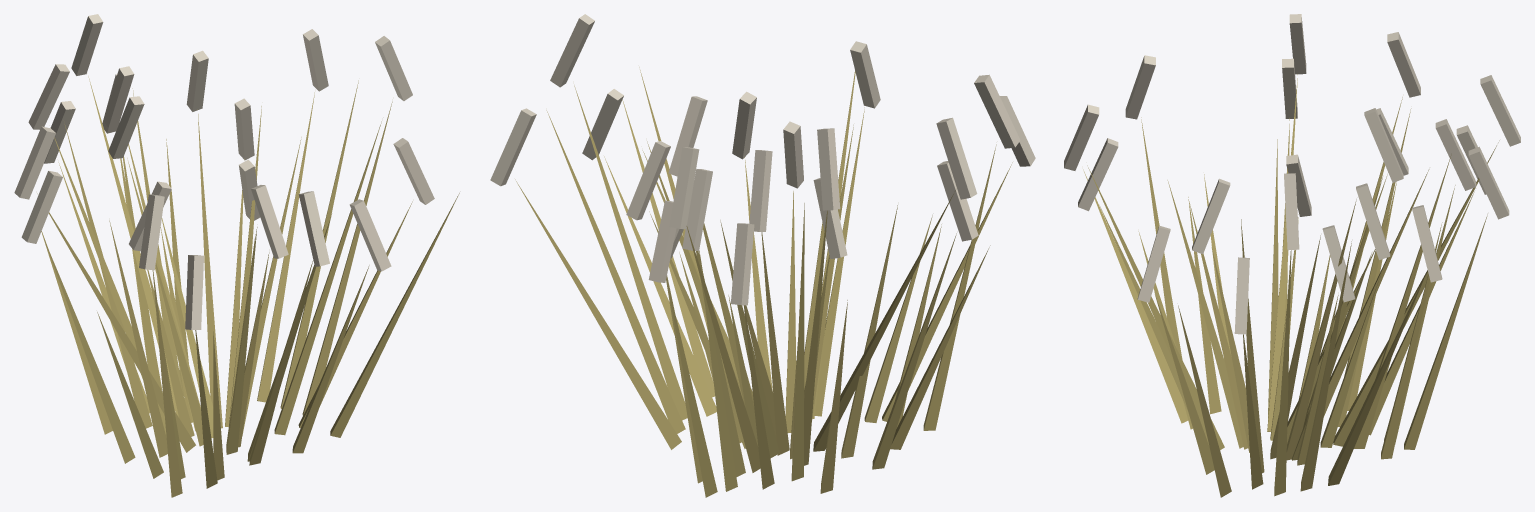
Rendered from nature_silvergrass_b.glb.
The picture shows the model from 3 angles, left to right: view 1: azimuth 30°, elevation 25°; view 2: azimuth 150°, elevation 25°; view 3: azimuth 270°, elevation 25°; orthographic projection. The views are drawn at different scales.
Parts seen in each view (by area): view 1: nature_silvergrass_b; view 2: nature_silvergrass_b; view 3: nature_silvergrass_b.
Part boxes in pixels (x1=…): nature_silvergrass_b: x1=14, y1=14, x2=459, y2=497; nature_silvergrass_b: x1=490, y1=14, x2=1035, y2=497; nature_silvergrass_b: x1=1064, y1=14, x2=1520, y2=497.
Bounding box in the file's own units: 2.72 × 2.39 × 2.7.
